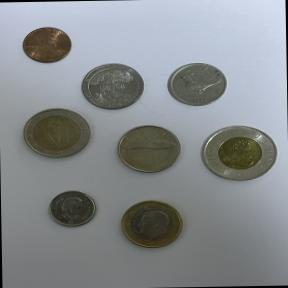coin: (197, 122, 283, 190), (16, 107, 96, 164), (116, 196, 188, 254), (111, 122, 184, 178), (78, 60, 149, 112), (42, 185, 100, 234), (19, 25, 76, 68)
